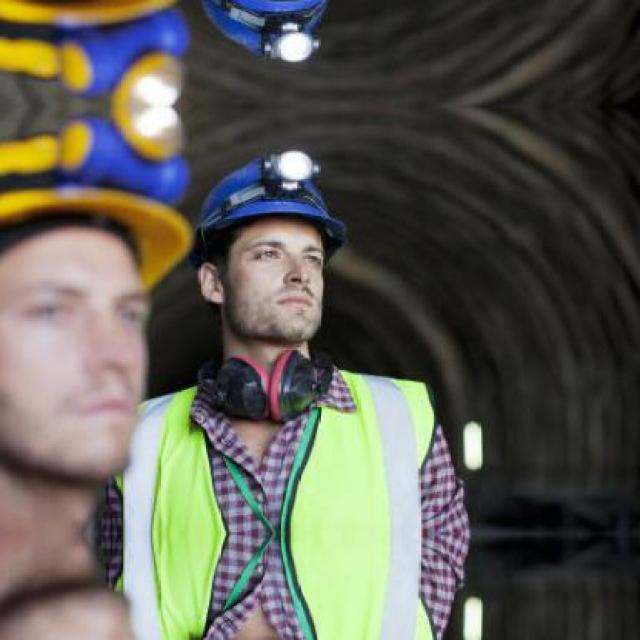Reflective-Jacket: (109, 342, 449, 640)
Safety-Helmet: (186, 143, 362, 267)
